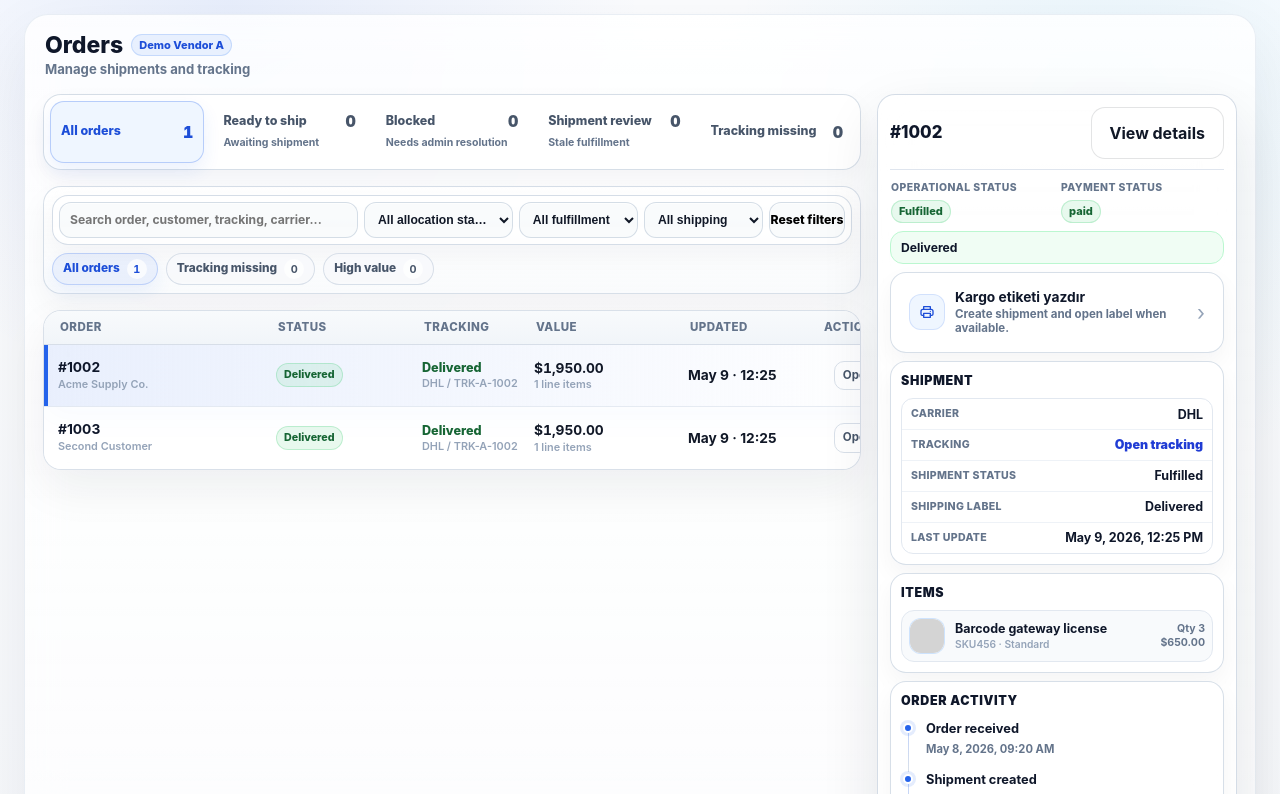
Test: OrdersPage control center › shows approved customer name but hides source and sensitive customer metadata from vendor rows
Expected: the text "#1002" is shown, [58,359,100,375]
Expected: the text "Acme Supply Co." is shown, [58,377,148,391]
What coordinates should you click on to do the following:
click the button "#1003"
I would click on:
 (484, 438)
Its box is [44,407,924,469].
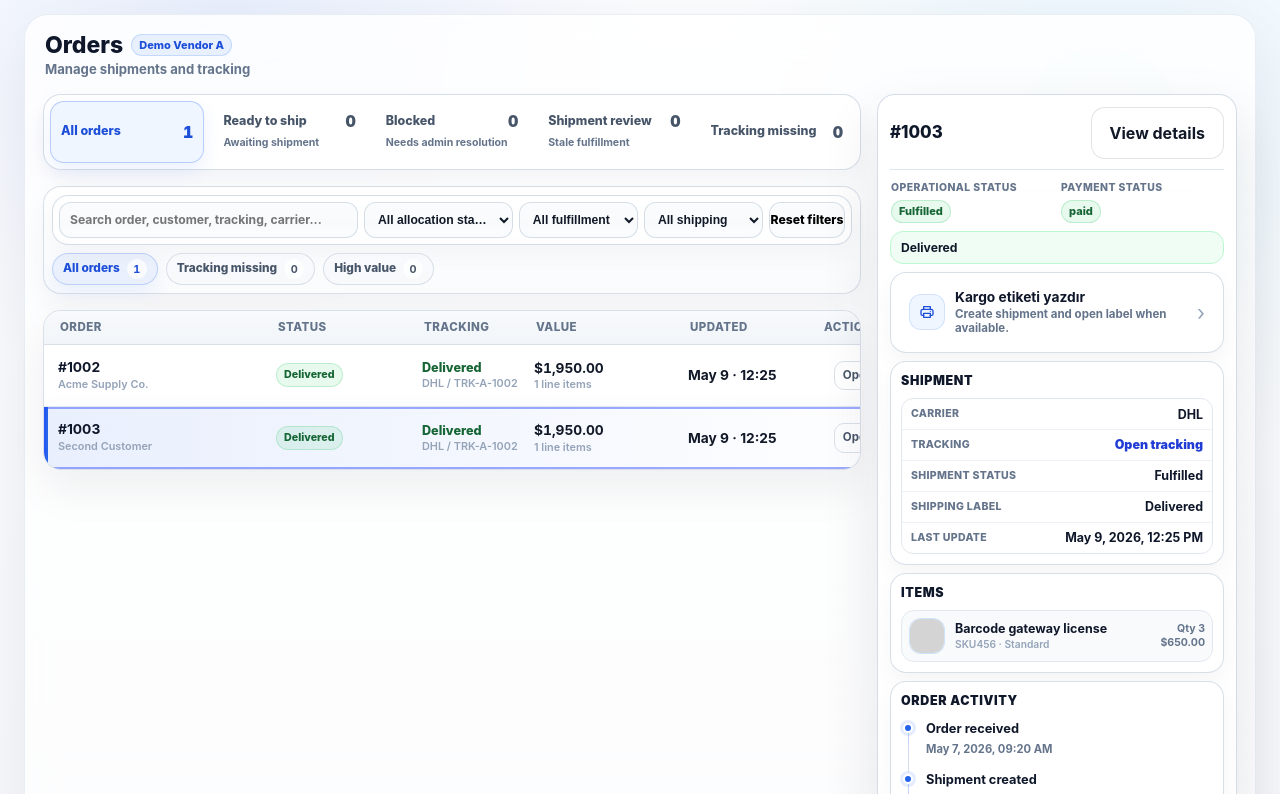
Now the heading "#1003" is shown, box [890,122,943,143]
